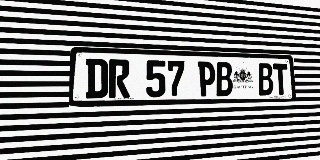5: (146, 60, 166, 97)
7: (166, 61, 185, 97)
B: (215, 62, 233, 96), (257, 63, 274, 95)
D: (85, 58, 108, 98)
P: (198, 61, 216, 97)
R: (109, 59, 130, 98)
T: (273, 63, 288, 95)
